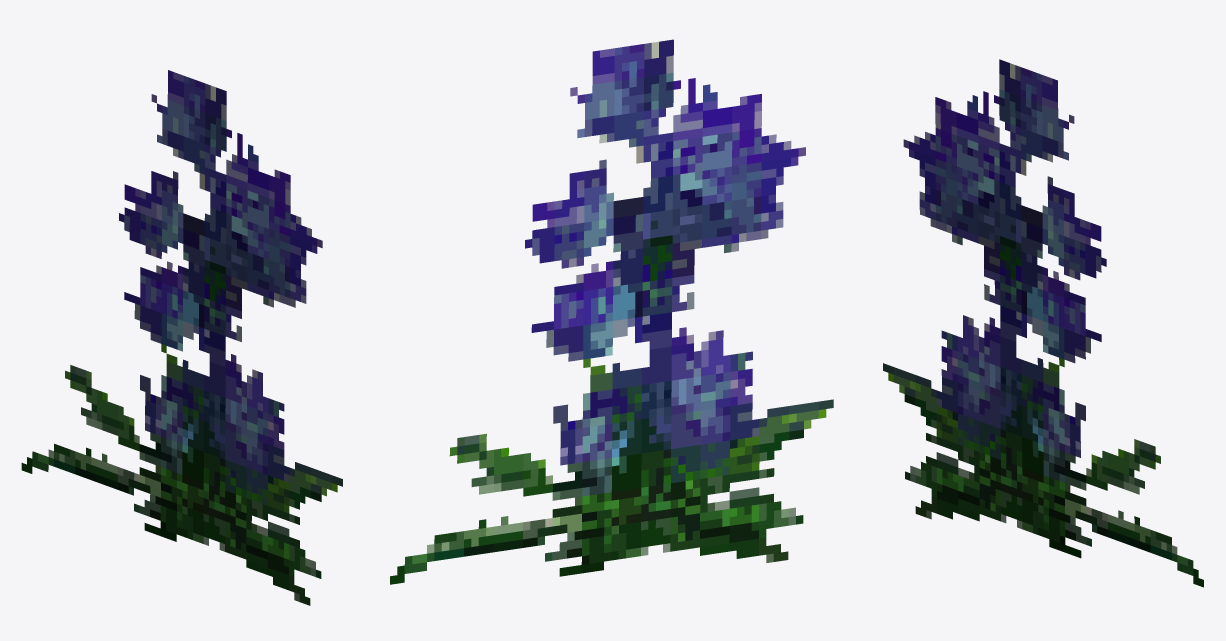
Rendered from plant-05.glb.
3 views of the same model, side by side, from view 1: azimuth 90°, elevation 25°; view 2: azimuth 150°, elevation 25°; view 3: azimuth 270°, elevation 25° (orthographic). The views are drawn at different scales.
Parts seen in each view (by area): view 1: wrld_flower_bright; view 2: wrld_flower_bright; view 3: wrld_flower_bright.
Boxes of the visible parts, x1=… form: wrld_flower_bright: x1=21, y1=70, x2=342, y2=605; wrld_flower_bright: x1=390, y1=39, x2=833, y2=584; wrld_flower_bright: x1=883, y1=59, x2=1203, y2=587.
Bounding box in the file's own units: 1.54 × 2.87 × 1.79.
Materials: 1 (1 with a texture image).
